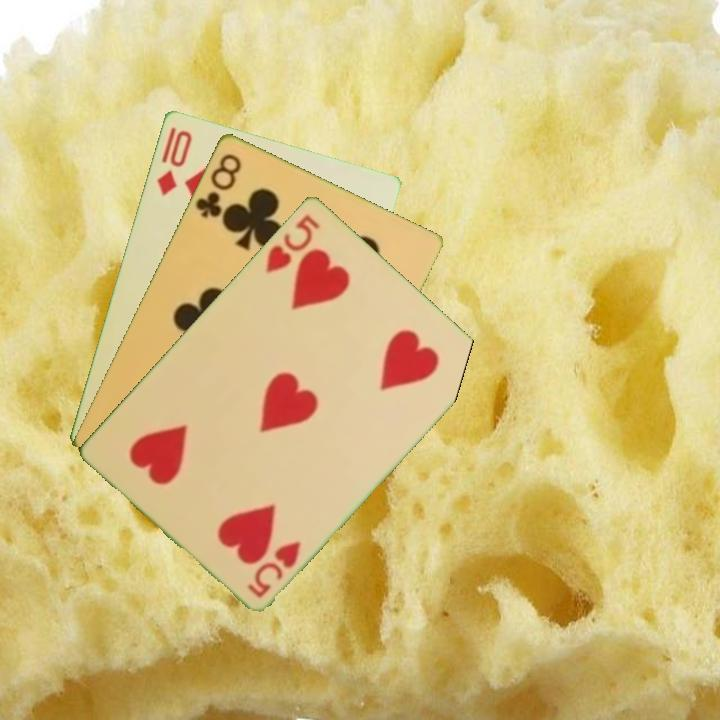10d: (153, 126, 195, 198)
5h: (262, 210, 323, 276), (244, 536, 304, 600)
8c: (191, 149, 244, 220)
